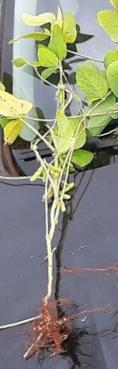soja: (28, 166, 43, 185), (60, 181, 79, 194), (45, 162, 62, 174), (58, 200, 70, 214), (41, 194, 55, 204), (63, 159, 77, 169), (60, 193, 72, 203), (47, 179, 54, 195), (48, 136, 55, 148), (61, 89, 65, 109)
